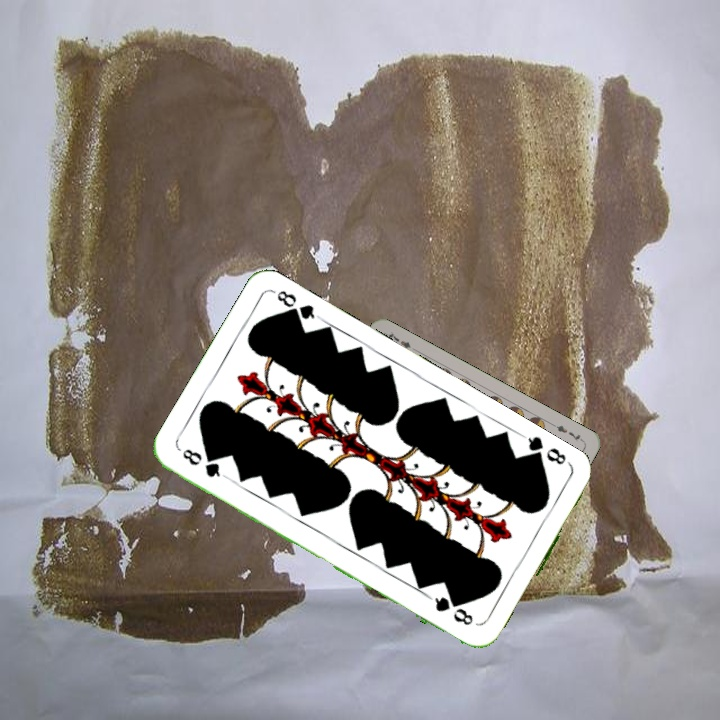E7: (548, 419, 586, 444)
G8: (522, 432, 574, 469), (178, 444, 229, 481)
